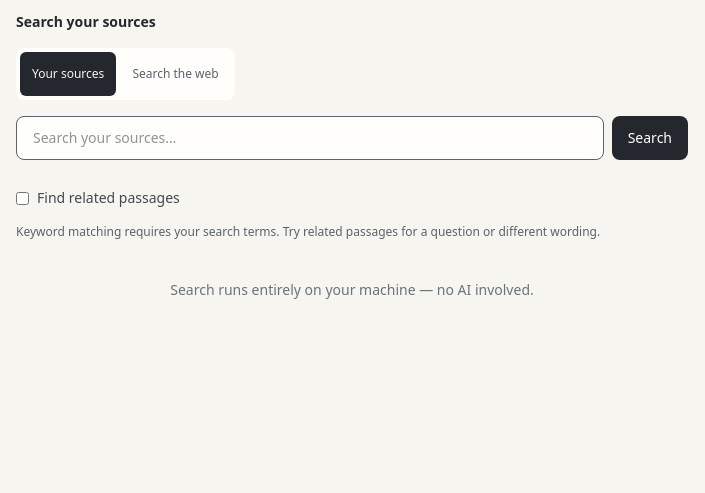
Scenario: counts distinct sources when passages share a source
In the search field with placeholder "Search your sources…": (310,138) [16, 116, 604, 160], type "cells"
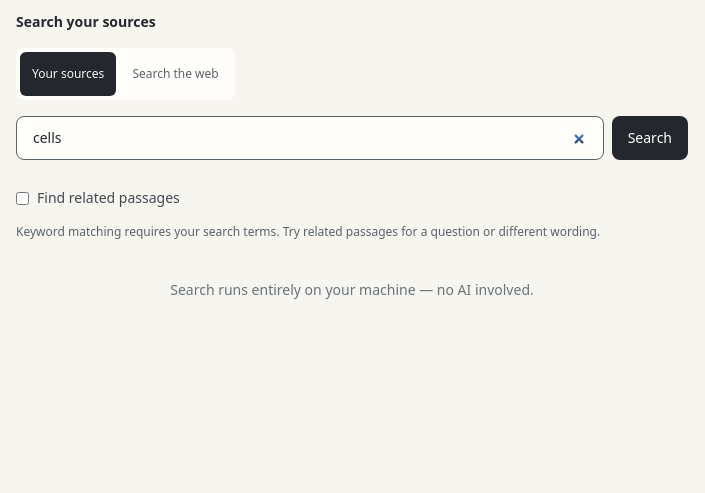
Click the button with aria-label "submit search": (650,138) [612, 116, 688, 160]
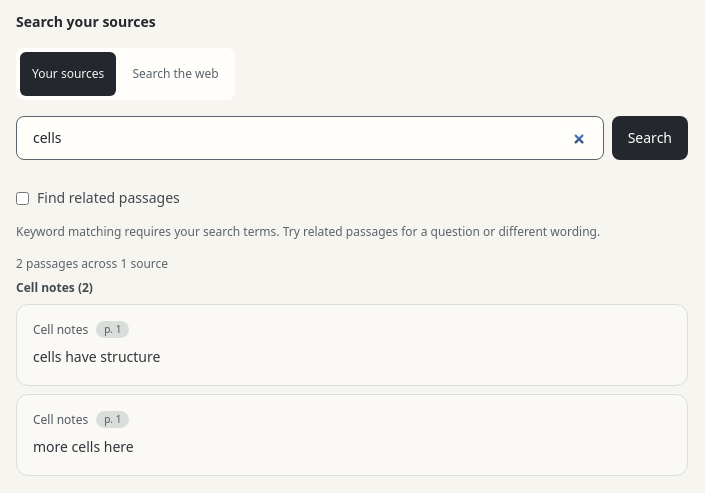
Expected: the text "2 passages across 1 source" is shown, [16, 255, 168, 272]
